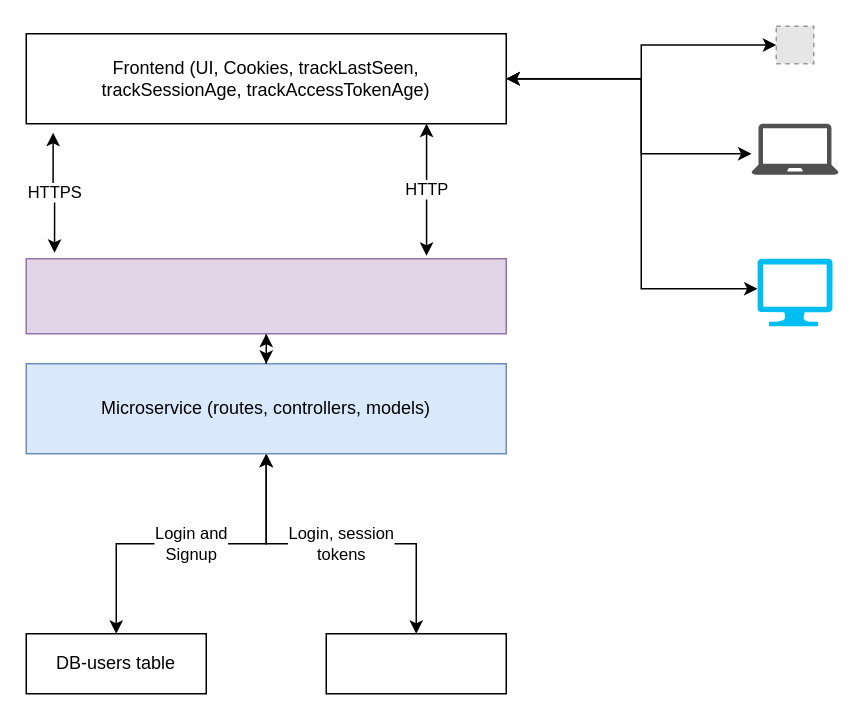
The diagram is 864 pixels wide and 720 high, and some of its shapes have lost their labels. Grey dashed boxes stand in for pictures. Each missing label, with the centre of its shape:
"DB-sessions" goes at pixel 415 663.
"Middleware (isLoggedIn, isAuthorised updateSessionAge)" goes at pixel 265 295.
